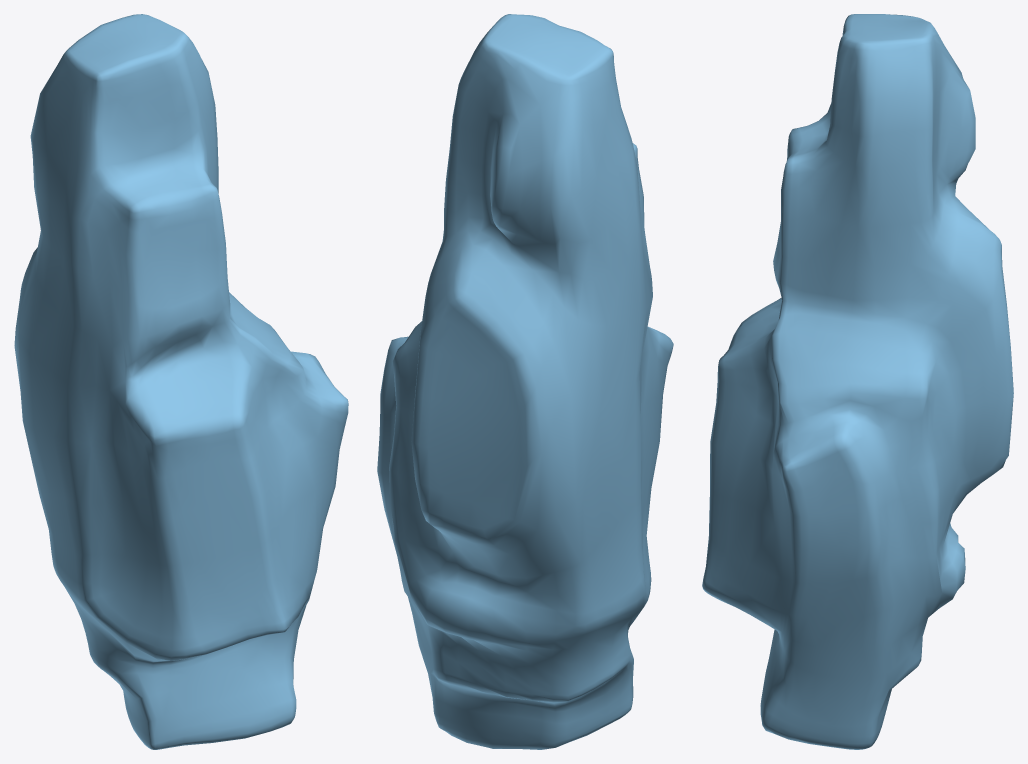
The model's file is LargeRock2.fbx.
3 views of the same model, side by side, from view 1: azimuth 30°, elevation 25°; view 2: azimuth 150°, elevation 25°; view 3: azimuth 270°, elevation 25° (orthographic). The views are drawn at different scales.
Parts seen in each view (by area): view 1: Retopo_Iceburg 2.001; view 2: Retopo_Iceburg 2.001; view 3: Retopo_Iceburg 2.001.
Boxes of the visible parts, x1,y1,x2,y2 form: Retopo_Iceburg 2.001: (14, 14, 348, 749); Retopo_Iceburg 2.001: (377, 14, 673, 749); Retopo_Iceburg 2.001: (702, 14, 1013, 749).
Size of the model in its own units: 114 by 305 by 126.
